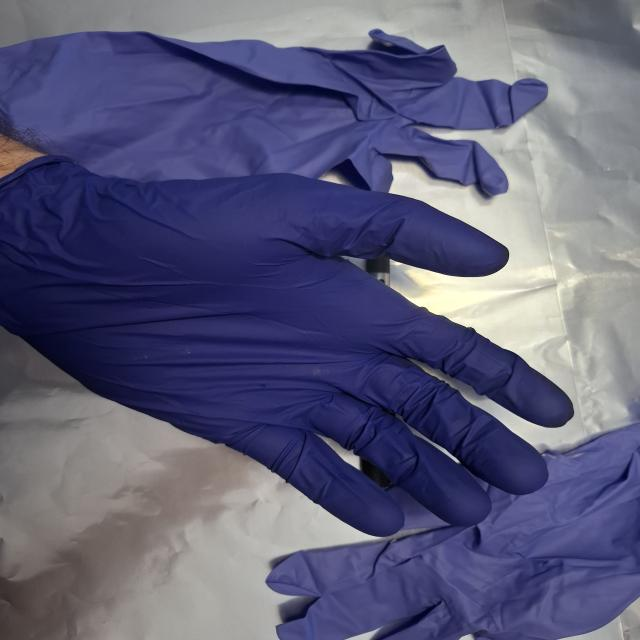glove_on: (4, 149, 580, 542)
